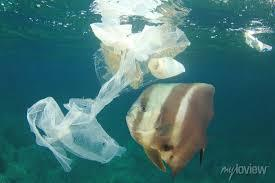Trash: (24, 83, 117, 168)
